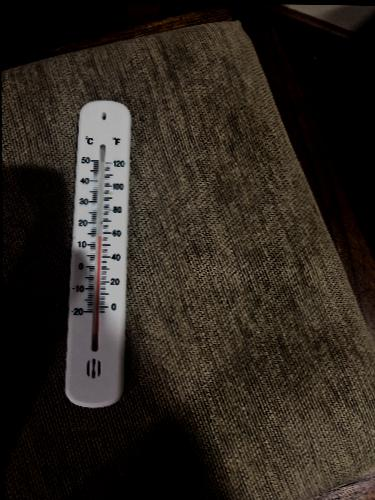thermo: (56, 97, 135, 404)
